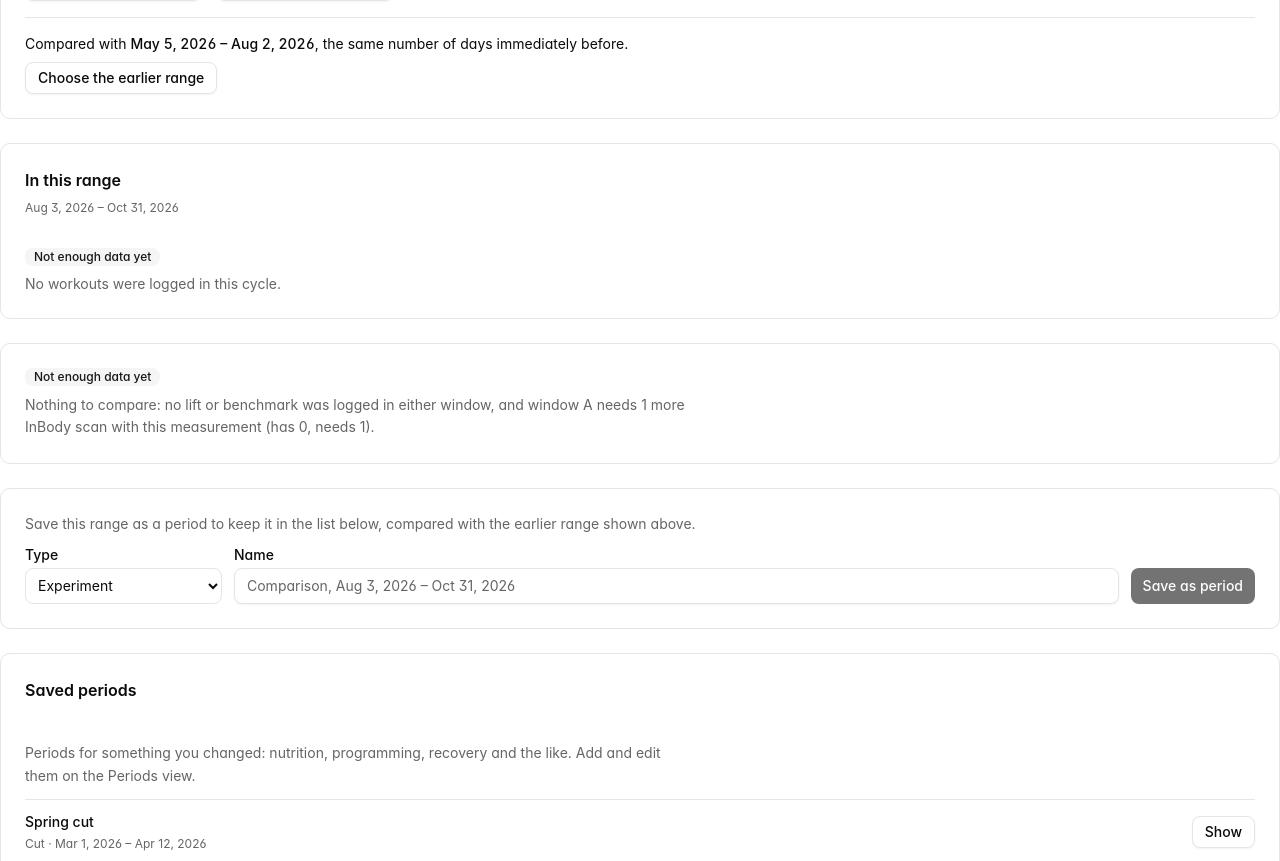
Test: CompareTab — a block's report › shows the focus lifts and a lift table once the block is picked
(page scrolled)
Click the button named "Show \"Spring cut\"" at (1223, 832), box left=1192, top=816, right=1255, bottom=848
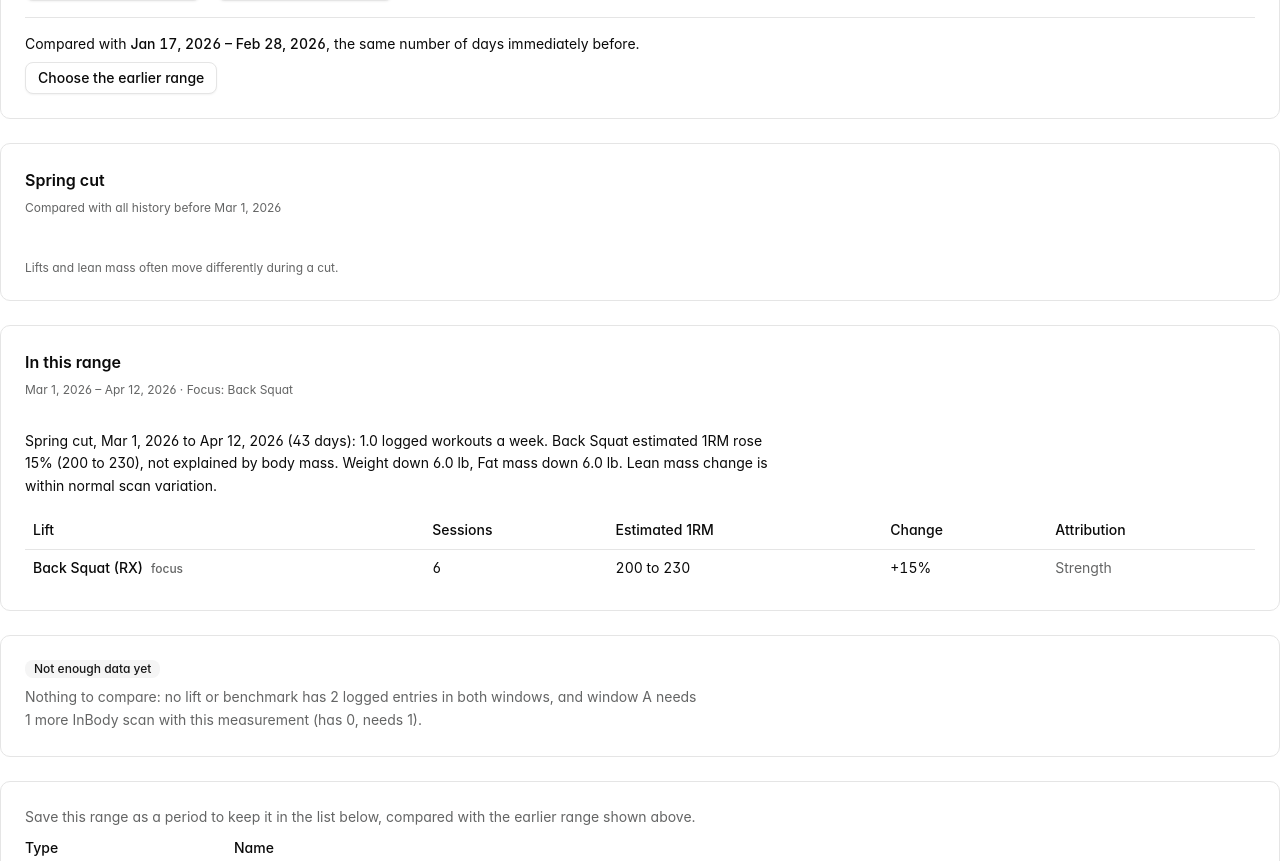
Expected: the text "Spring cut" is shown, left=25, top=170, right=105, bottom=190
Expected: the text "Mar 1, 2026 – Apr 12, 2026 · Focus: Back Squat" is shown, left=25, top=382, right=293, bottom=396
Expected: the text "Back Squat estimated 1RM rose 15% (200 to 230)" is shown, left=25, top=432, right=768, bottom=494
